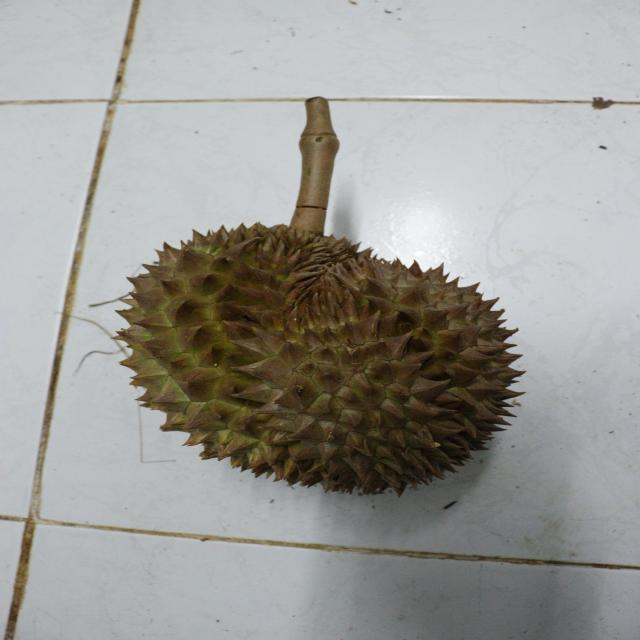mature: (111, 217, 527, 499)
